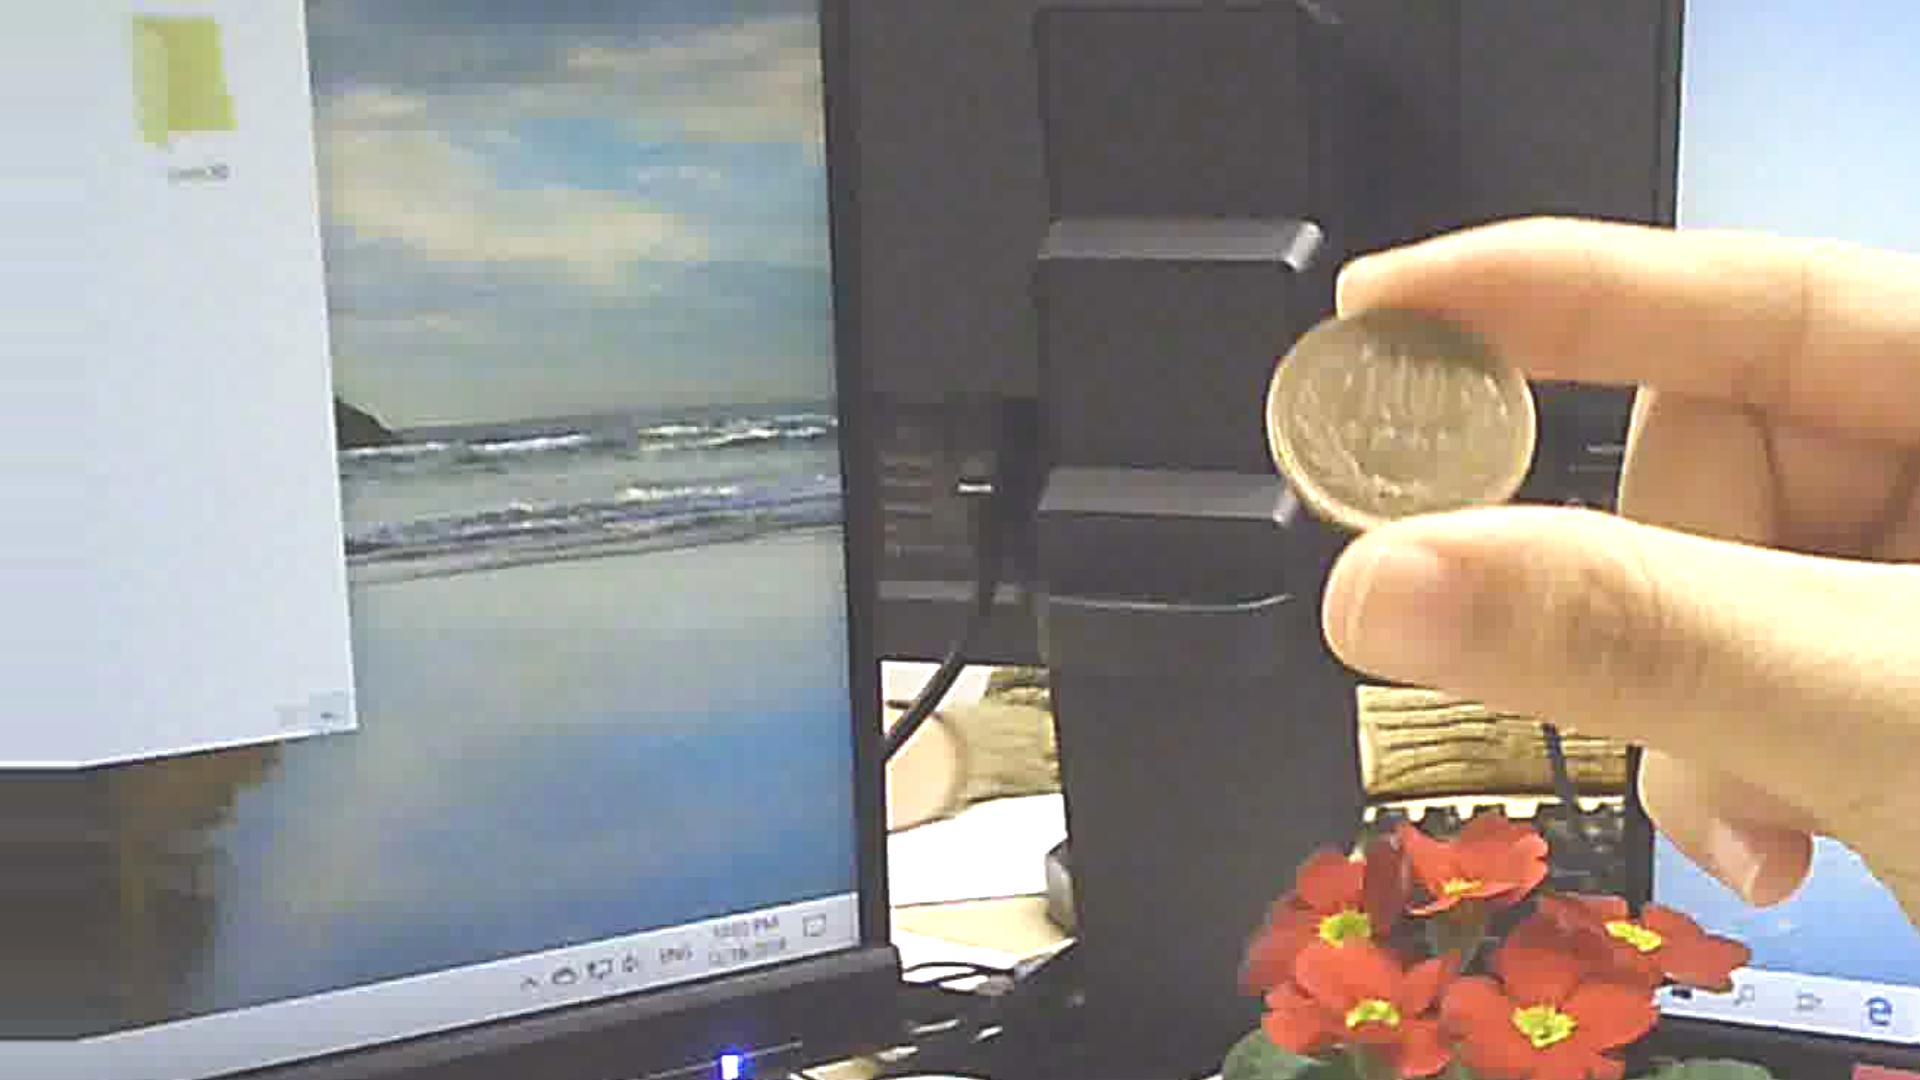10 Yen: (1276, 306, 1548, 517)
